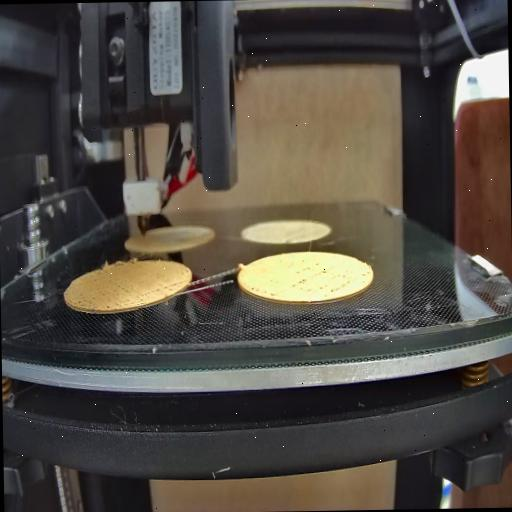under_extrusion: (292, 260, 354, 298), (74, 277, 132, 308), (248, 284, 278, 303), (144, 281, 180, 295)
